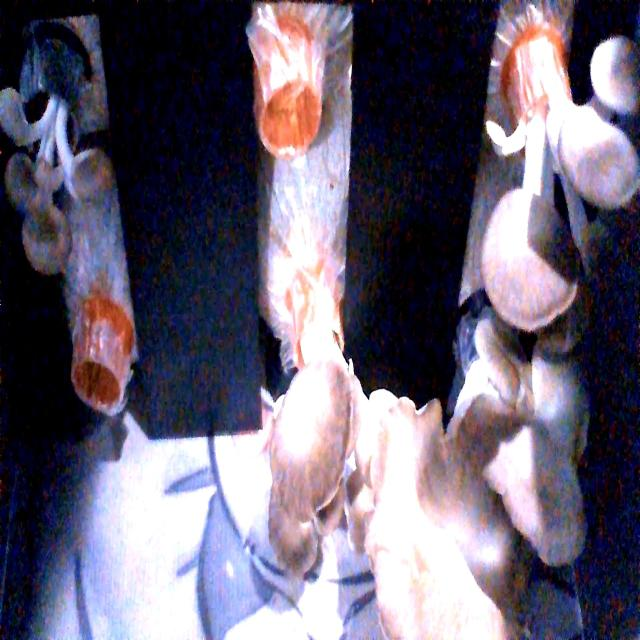big: (359, 340, 591, 622), (454, 0, 640, 330), (257, 362, 394, 574)
nfound: (54, 343, 142, 435), (262, 70, 327, 166)
small: (0, 88, 142, 274)
